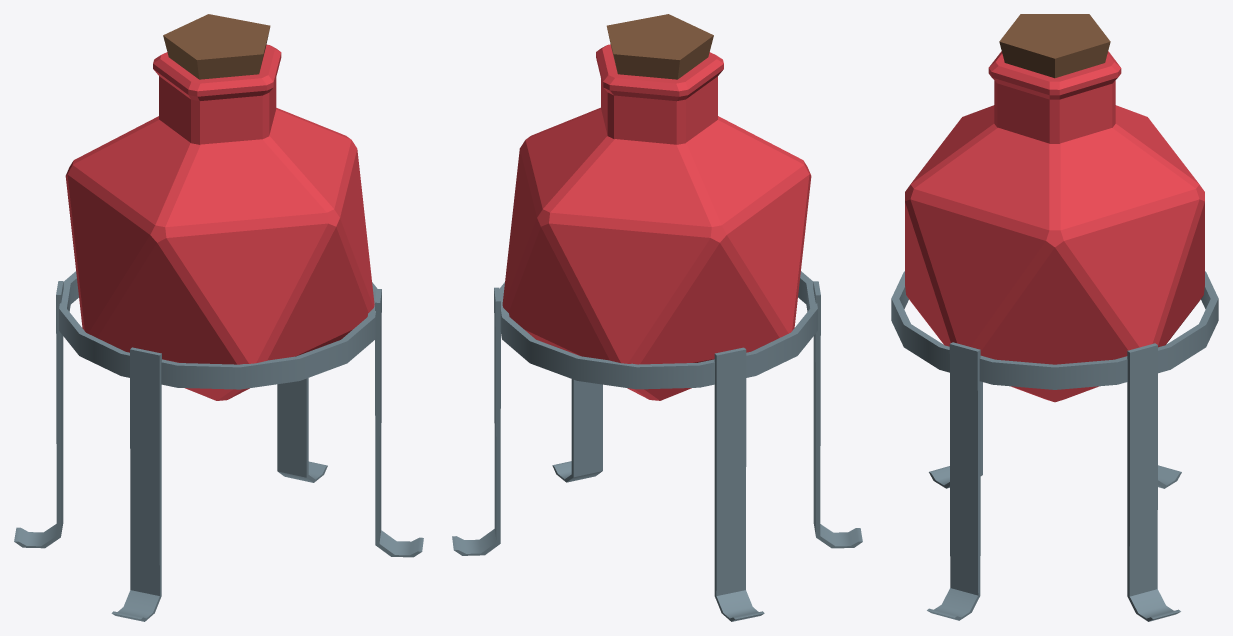
The model's file is Potion_06_Red.fbx.
The picture shows the model from 3 angles, left to right: view 1: azimuth 30°, elevation 25°; view 2: azimuth 150°, elevation 25°; view 3: azimuth 270°, elevation 25°; orthographic projection.
Visible parts, largest first — view 1: Icosphere, Cube.007, Cylinder.004, Cylinder.007, Cylinder.005, Cube.008, Cube.009, Cube.006; view 2: Icosphere, Cube.009, Cylinder.004, Cylinder.007, Cylinder.005, Cube.006, Cube.007, Cube.008; view 3: Icosphere, Cube.008, Cube.006, Cylinder.004, Cylinder.007, Cylinder.005, Cube.007.
Boxes of the visible parts, bbox=[...] form: Icosphere: bbox=[65, 108, 374, 400]; Cube.007: bbox=[111, 347, 161, 621]; Cylinder.004: bbox=[153, 44, 281, 144]; Cylinder.007: bbox=[59, 271, 377, 389]; Cylinder.005: bbox=[163, 14, 270, 79]; Cube.008: bbox=[277, 378, 327, 482]; Cube.009: bbox=[14, 281, 63, 548]; Cube.006: bbox=[375, 289, 423, 557]; Icosphere: bbox=[502, 107, 811, 400]; Cube.009: bbox=[714, 347, 764, 621]; Cylinder.004: bbox=[596, 44, 723, 144]; Cylinder.007: bbox=[499, 271, 817, 389]; Cylinder.005: bbox=[606, 14, 713, 79]; Cube.006: bbox=[552, 379, 602, 482]; Cube.007: bbox=[813, 281, 862, 548]; Cube.008: bbox=[452, 287, 500, 555]; Icosphere: bbox=[905, 105, 1204, 402]; Cube.008: bbox=[1127, 343, 1180, 621]; Cube.006: bbox=[927, 342, 980, 620]; Cylinder.004: bbox=[988, 51, 1121, 143]; Cylinder.007: bbox=[891, 271, 1218, 389]; Cylinder.005: bbox=[999, 14, 1110, 78]; Cube.007: bbox=[929, 381, 982, 488].
Size of the model in its own units: 25.27 by 39.03 by 22.52.
